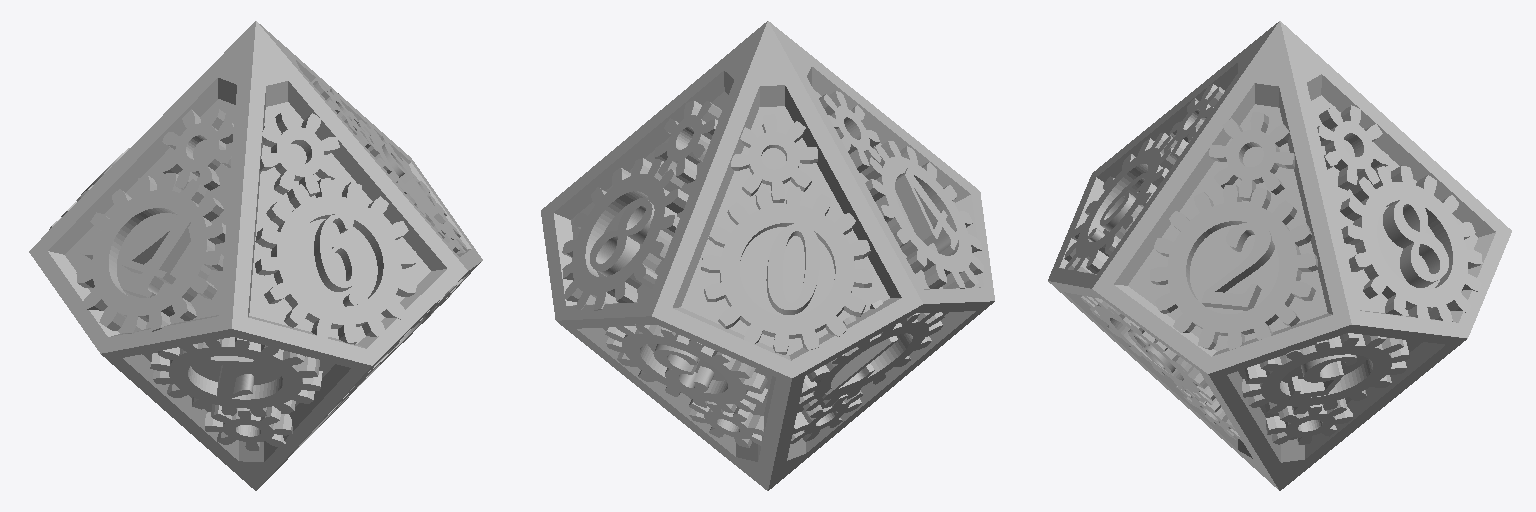
robot.urdf — root:
<?xml version='1.0' encoding='utf-8'?>
<robot name="root">
  <link name="link_001">
    <visual>
      <origin xyz="0 0 0" rpy="0 0 0" />
      <geometry>
        <mesh filename="2b2b751c35078751bfc7cd3675d8f7821e5c53b3b5522ae869826748bf76315a_scale_013.stl" scale="1.0000E+00 1.0000E+00 1.0000E+00" />
      </geometry>
      <material name="">
        <color rgba="7.50E-01 7.50E-01 7.50E-01 1" />
      </material>
    </visual>
    <collision>
      <origin xyz="0 0 0" rpy="0 0 0" />
      <geometry>
        <mesh filename="2b2b751c35078751bfc7cd3675d8f7821e5c53b3b5522ae869826748bf76315a_scale_013.stl" scale="1.0000E+00 1.0000E+00 1.0000E+00" />
      </geometry>
    </collision>
  </link>
</robot>

--- Render facts (derived) ---
3 views of the same robot in one strip: view 1: azimuth 30°, elevation 25°; view 2: azimuth 150°, elevation 25°; view 3: azimuth 270°, elevation 25° (orthographic).
Robot: root — 1 links, 0 joints (none); root link link_001; default pose: every joint at zero.
Visible links, largest first — view 1: link_001; view 2: link_001; view 3: link_001.
Link boxes in pixels (x1=…): link_001: x1=29, y1=21, x2=482, y2=490; link_001: x1=541, y1=21, x2=994, y2=490; link_001: x1=1048, y1=21, x2=1511, y2=490.
Bounding box of the posed robot: 0.1088 × 0.1143 × 0.1278 m (x, y, z).
Meshes: 1 distinct files referenced, 1 mesh visuals loaded (1 binary STL).
